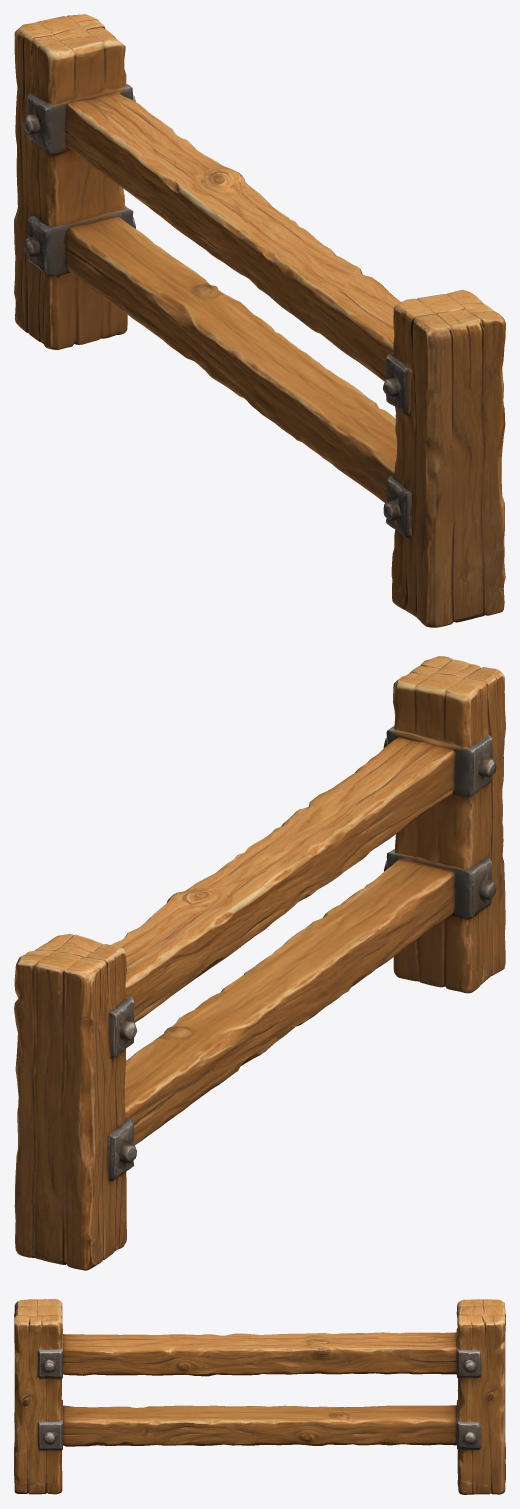
3 renders of one model, top to bottom at view 1: azimuth 30°, elevation 25°; view 2: azimuth 150°, elevation 25°; view 3: azimuth 270°, elevation 25°, orthographic. The views are drawn at different scales.
Parts seen in each view (by area): view 1: tripo_node_87df74cc-8da1-4377-9d15-f1b457769d71; view 2: tripo_node_87df74cc-8da1-4377-9d15-f1b457769d71; view 3: tripo_node_87df74cc-8da1-4377-9d15-f1b457769d71.
Part boxes in pixels (<box>): tripo_node_87df74cc-8da1-4377-9d15-f1b457769d71: <box>14,14,505,627</box>; tripo_node_87df74cc-8da1-4377-9d15-f1b457769d71: <box>14,656,505,1270</box>; tripo_node_87df74cc-8da1-4377-9d15-f1b457769d71: <box>14,1299,505,1494</box>.
Bounding box in the file's own units: 0.1476 × 0.3926 × 1.
Materials: 1 (1 with a texture image).
